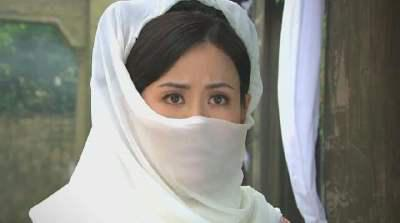OK: (136, 67, 249, 171)
